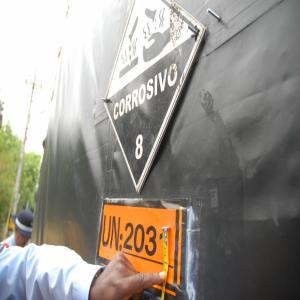Vehicle-registration-plate: (95, 202, 184, 287)
